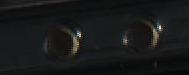joints: (40, 19, 84, 63), (121, 13, 164, 53)
